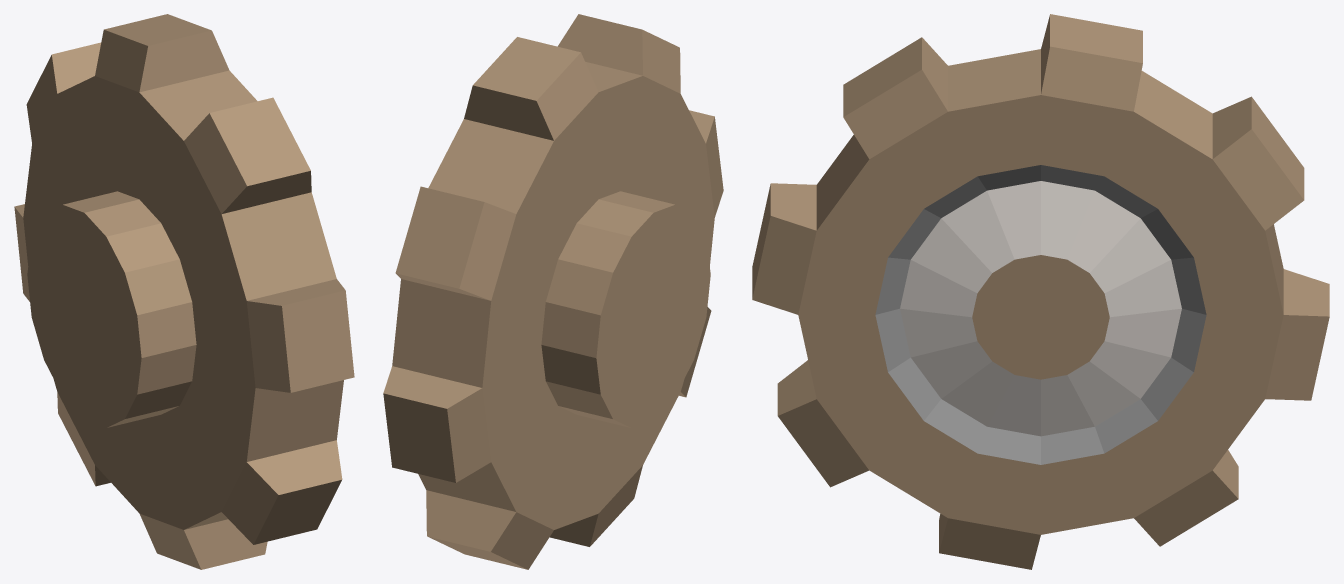
The model's file is gear-small.fbx.
3 renders of one model, left to right at view 1: azimuth 30°, elevation 25°; view 2: azimuth 150°, elevation 25°; view 3: azimuth 270°, elevation 25°, orthographic. The views are drawn at different scales.
Visible parts, largest first — view 1: pCylinder1; view 2: pCylinder1; view 3: pCylinder1.
Boxes of the visible parts, x1,y1,x2,y2 form: pCylinder1: [14, 14, 354, 569]; pCylinder1: [383, 14, 723, 569]; pCylinder1: [752, 14, 1329, 569].
Bounding box in the file's own units: 0.744 × 2.38 × 2.38.
